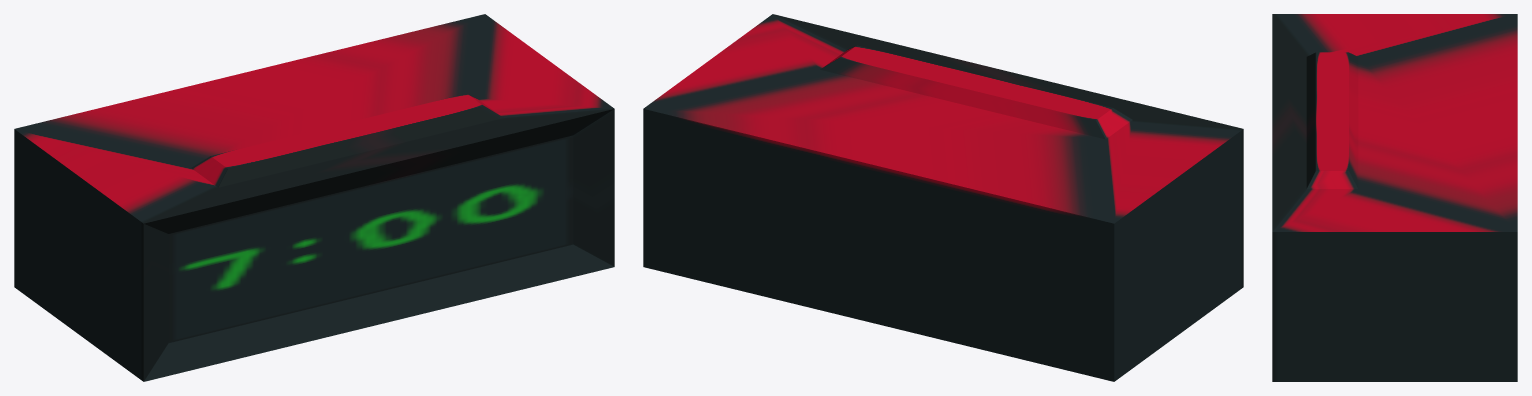
Rendered from alarm clock.fbx.
The picture shows the model from 3 angles, left to right: view 1: azimuth 30°, elevation 25°; view 2: azimuth 150°, elevation 25°; view 3: azimuth 270°, elevation 25°; orthographic projection. The views are drawn at different scales.
Visible parts, largest first — view 1: pCube1; view 2: pCube1; view 3: pCube1.
Boxes of the visible parts, left/top/right/bottom form: pCube1: left=14, top=14, right=614, bottom=381; pCube1: left=643, top=14, right=1243, bottom=381; pCube1: left=1272, top=14, right=1517, bottom=381.
Size of the model in its own units: 2.67 by 0.9205 by 1.27.
1 material, 1 textured.
